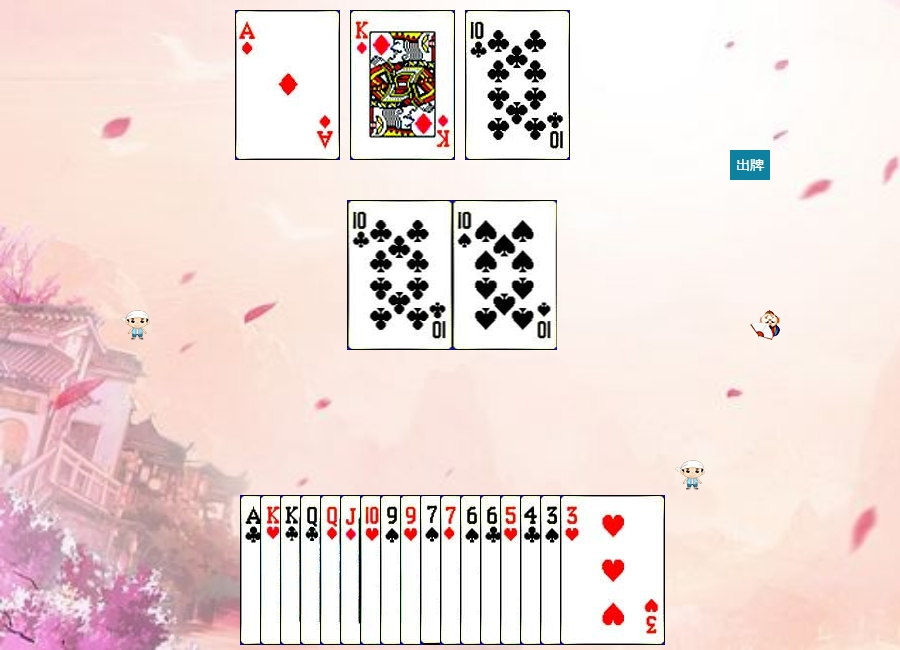10~2: (465, 10, 570, 160), (348, 200, 453, 350)
10~3: (360, 495, 465, 645)
10~4: (453, 200, 558, 350)
11~1: (340, 495, 445, 645)
12~1: (320, 495, 425, 645)
12~2: (300, 495, 405, 645)
13~1: (350, 10, 455, 160)
13~2: (280, 495, 385, 645)
13~3: (260, 495, 365, 645)
14~1: (235, 10, 340, 160)
14~2: (240, 495, 345, 645)
3~3: (560, 495, 665, 645)
3~4: (540, 495, 645, 645)
4~2: (520, 495, 625, 645)
5~3: (500, 495, 605, 645)
6~2: (480, 495, 585, 645)
6~4: (460, 495, 565, 645)
7~1: (440, 495, 545, 645)
7~4: (420, 495, 525, 645)
9~3: (400, 495, 505, 645)
9~4: (380, 495, 485, 645)
